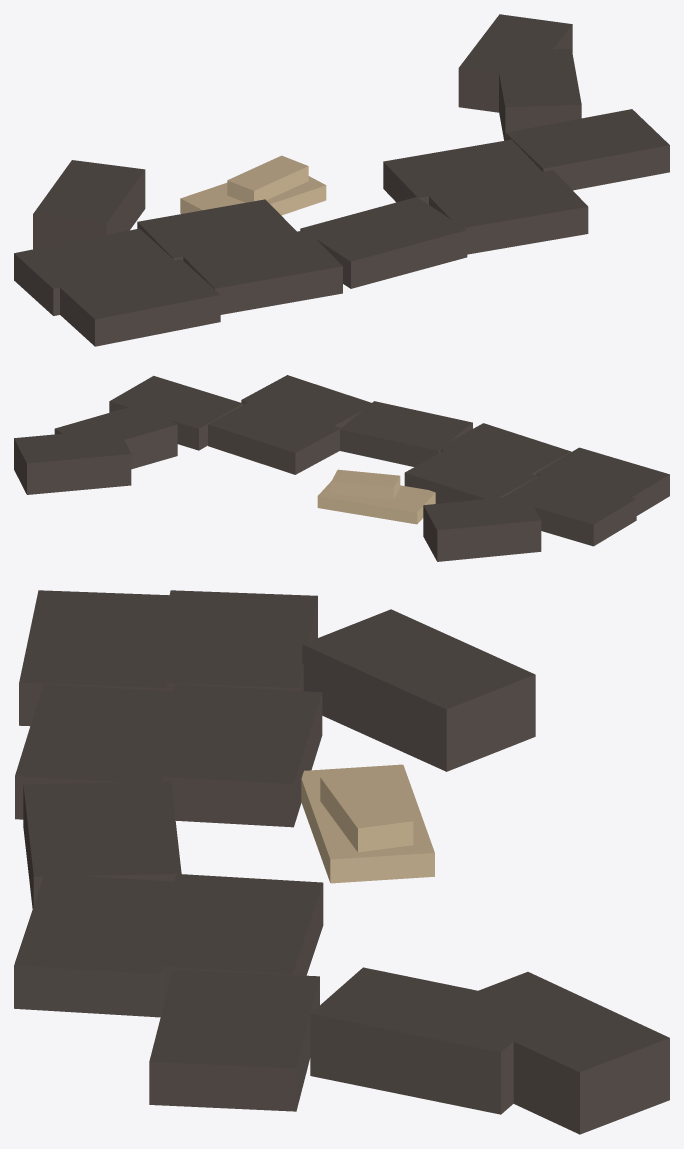
Rendered from SM_PretilTramo_v1_Talud_e3_Brecha_LOD0.fbx.
The picture shows the model from 3 angles, top to bottom: view 1: azimuth 30°, elevation 25°; view 2: azimuth 150°, elevation 25°; view 3: azimuth 270°, elevation 25°; orthographic projection. The views are drawn at different scales.
Parts seen in each view (by area): view 1: SM_pretil_azotea_v7_LOD0; view 2: SM_pretil_azotea_v7_LOD0; view 3: SM_pretil_azotea_v7_LOD0.
Boxes of the visible parts, x1=… form: SM_pretil_azotea_v7_LOD0: x1=14, y1=14, x2=669, y2=346; SM_pretil_azotea_v7_LOD0: x1=14, y1=375, x2=669, y2=561; SM_pretil_azotea_v7_LOD0: x1=14, y1=590, x2=669, y2=1134.
Bounding box in the file's own units: 4.49 × 0.26 × 2.48.
